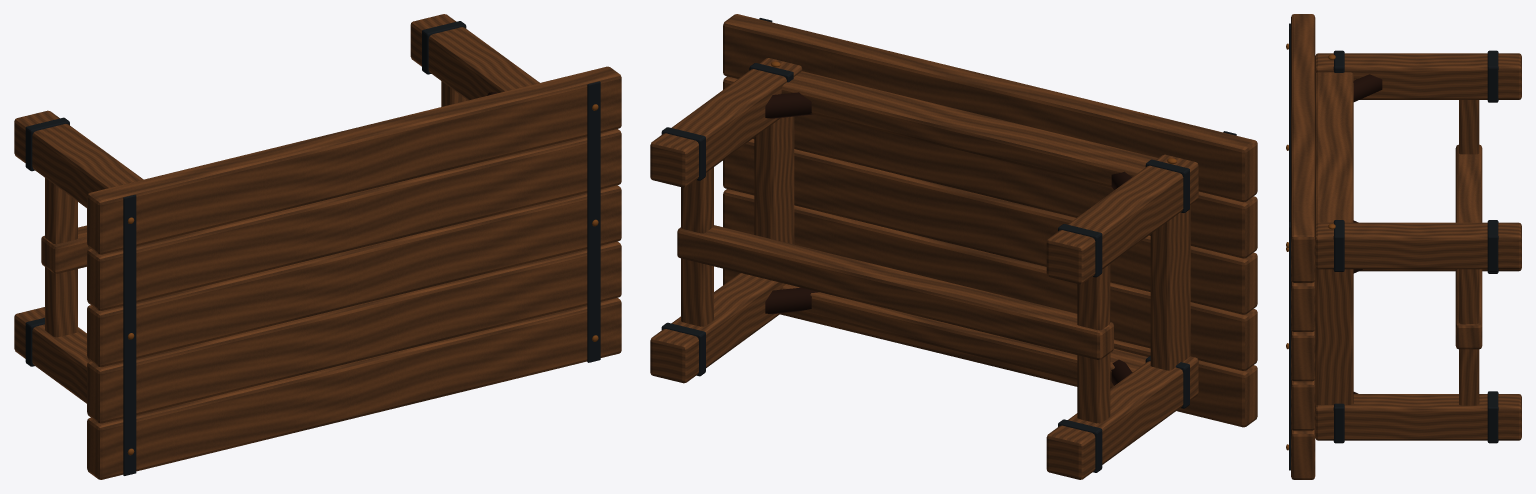
File: Table.obj
3 views of the same model, side by side, from view 1: azimuth 30°, elevation 25°; view 2: azimuth 150°, elevation 25°; view 3: azimuth 270°, elevation 25° (orthographic). The views are drawn at different scales.
Visible parts, largest first — view 1: Thick_Oak_Tabletop_Plank, Thick_Oak_Tabletop_Plank.003, Thick_Oak_Tabletop_Plank.002, Thick_Oak_Tabletop_Plank.004, Thick_Oak_Tabletop_Plank.001, Square_Taper_Style_Leg.002, Square_Taper_Style_Leg, Lower_Crossbar.001, Top_Iron_End_Strap, Top_Iron_End_Strap.001, Square_Taper_Style_Leg.003, Long_Lower_Stretcher; view 2: Thick_Oak_Tabletop_Plank, Thick_Oak_Tabletop_Plank.002, Thick_Oak_Tabletop_Plank.003, Long_Lower_Stretcher, Thick_Oak_Tabletop_Plank.001, Long_Apron, Square_Taper_Style_Leg.002, Square_Taper_Style_Leg, Square_Taper_Style_Leg.003, Long_Apron.001, Square_Taper_Style_Leg.001, Thick_Oak_Tabletop_Plank.004 (+6 smaller); view 3: Square_Taper_Style_Leg, Square_Taper_Style_Leg.001, Square_Taper_Style_Leg.002, Thick_Oak_Tabletop_Plank, Long_Apron, End_Apron, Long_Lower_Stretcher, Lower_Crossbar, Thick_Oak_Tabletop_Plank.003, Thick_Oak_Tabletop_Plank.002, Thick_Oak_Tabletop_Plank.004, Thick_Oak_Tabletop_Plank.001 (+10 smaller).
Boxes of the visible parts, x1,y1,x2,y2 form: Thick_Oak_Tabletop_Plank: (87, 66, 621, 254); Thick_Oak_Tabletop_Plank.003: (87, 241, 621, 423); Thick_Oak_Tabletop_Plank.002: (87, 185, 621, 367); Thick_Oak_Tabletop_Plank.004: (87, 298, 621, 479); Thick_Oak_Tabletop_Plank.001: (87, 129, 621, 310); Square_Taper_Style_Leg.002: (14, 110, 143, 207); Square_Taper_Style_Leg: (410, 14, 539, 100); Lower_Crossbar.001: (45, 178, 77, 337); Top_Iron_End_Strap: (587, 81, 600, 362); Top_Iron_End_Strap.001: (123, 194, 136, 475); Square_Taper_Style_Leg.003: (14, 307, 90, 403); Long_Lower_Stretcher: (41, 225, 90, 273); Thick_Oak_Tabletop_Plank: (723, 14, 1257, 202); Thick_Oak_Tabletop_Plank.002: (723, 139, 1257, 314); Thick_Oak_Tabletop_Plank.003: (723, 189, 1257, 370); Long_Lower_Stretcher: (677, 225, 1113, 359); Thick_Oak_Tabletop_Plank.001: (723, 76, 1257, 258); Long_Apron: (781, 71, 1157, 187); Square_Taper_Style_Leg.002: (1046, 154, 1198, 284); Square_Taper_Style_Leg: (650, 58, 802, 187); Square_Taper_Style_Leg.003: (1046, 356, 1198, 479); Long_Apron.001: (782, 284, 1147, 388); Square_Taper_Style_Leg.001: (650, 273, 785, 383); Thick_Oak_Tabletop_Plank.004: (723, 268, 1257, 427); Square_Taper_Style_Leg: (1315, 222, 1521, 269); Square_Taper_Style_Leg.001: (1315, 394, 1521, 440); Square_Taper_Style_Leg.002: (1315, 53, 1521, 99); Thick_Oak_Tabletop_Plank: (1291, 14, 1315, 282); Long_Apron: (1315, 72, 1353, 224); End_Apron: (1315, 267, 1353, 405); Long_Lower_Stretcher: (1455, 144, 1482, 349); Lower_Crossbar: (1459, 269, 1479, 405); Thick_Oak_Tabletop_Plank.003: (1291, 378, 1315, 430); Thick_Oak_Tabletop_Plank.002: (1291, 329, 1315, 381); Thick_Oak_Tabletop_Plank.004: (1291, 428, 1315, 479); Thick_Oak_Tabletop_Plank.001: (1291, 280, 1315, 331).
Size of the model in its own units: 1.85 by 0.944 by 0.8242.
4 materials, 1 textured.
